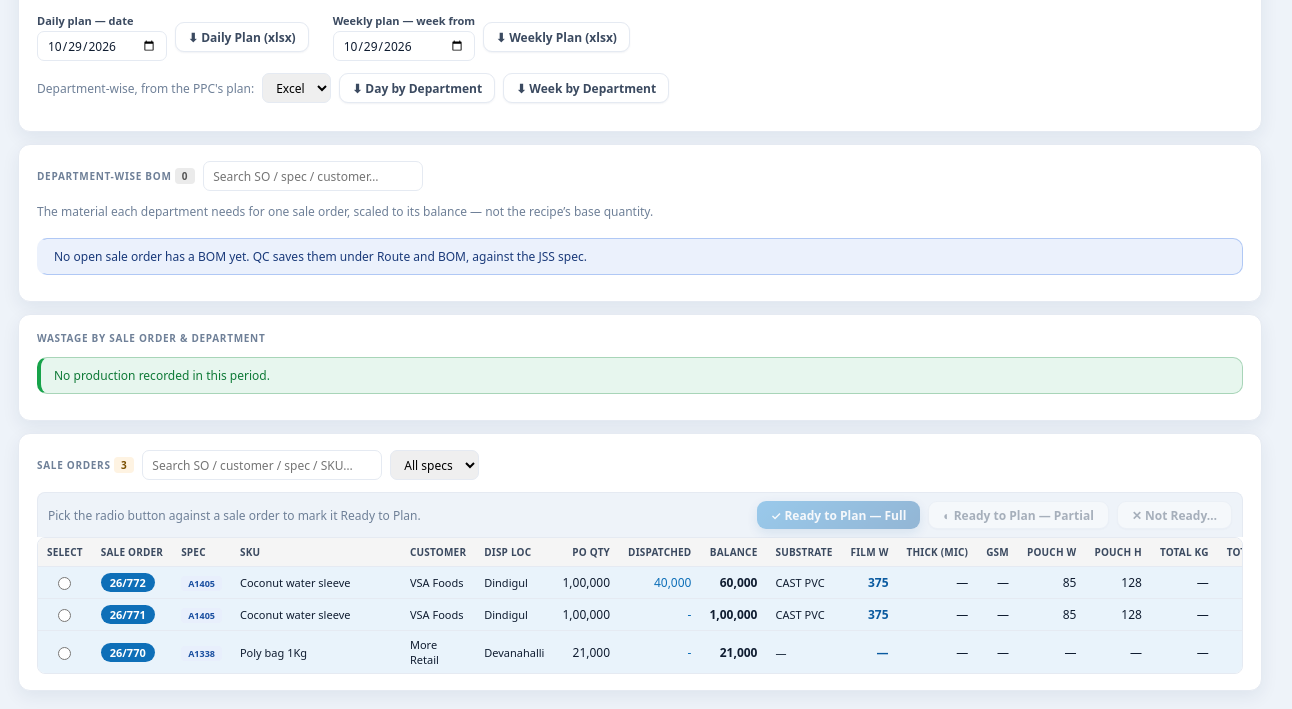
Scenario: PLAN — the material a picked order needs › opens nothing until a radio picks an order, then shows it above the board
This screenshot has width=1292, height=709.
(page scrolled)
Expected: the text "Sale orders 3" is shown, [37,457,134,473]
Click the radio button named "Select 26/771": (65,616) [58,609,71,622]
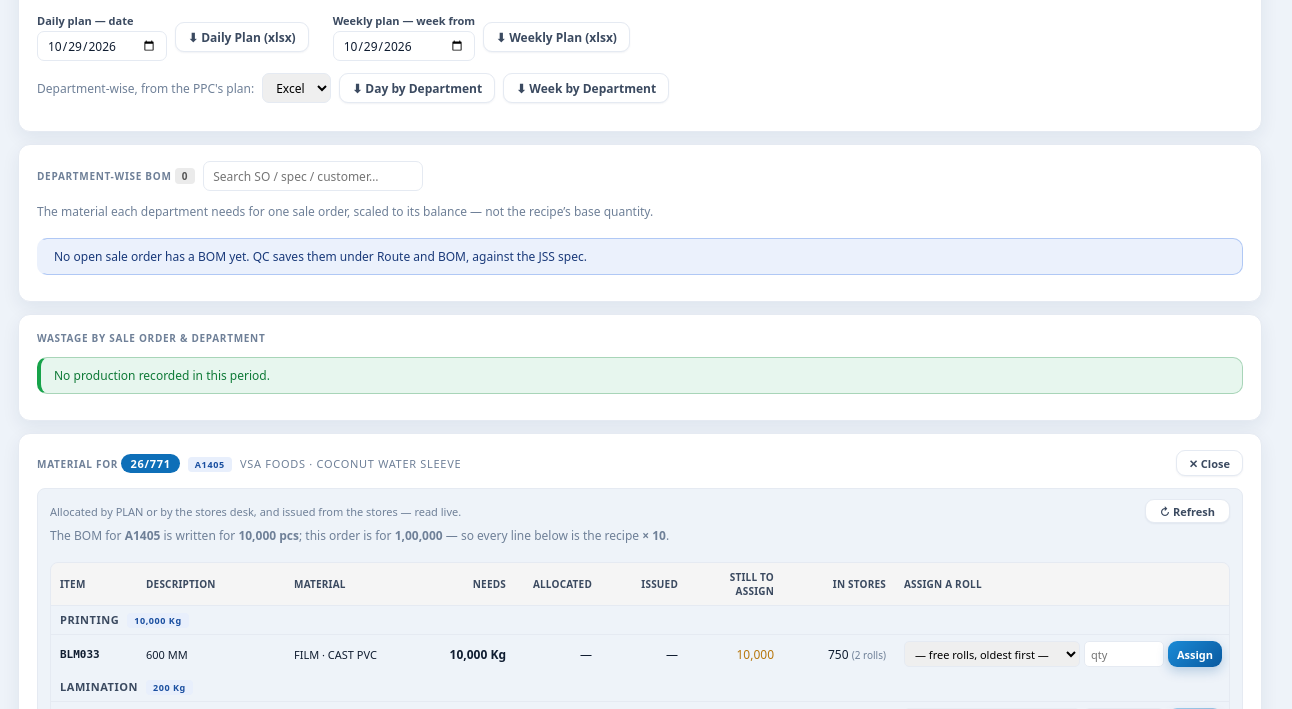
Expected: the text "A1405" in the row of "Material for" is shown, [195,458,225,470]
Expected: the text "VSA Foods · Coconut water sleeve" is shown, [240,456,461,470]
